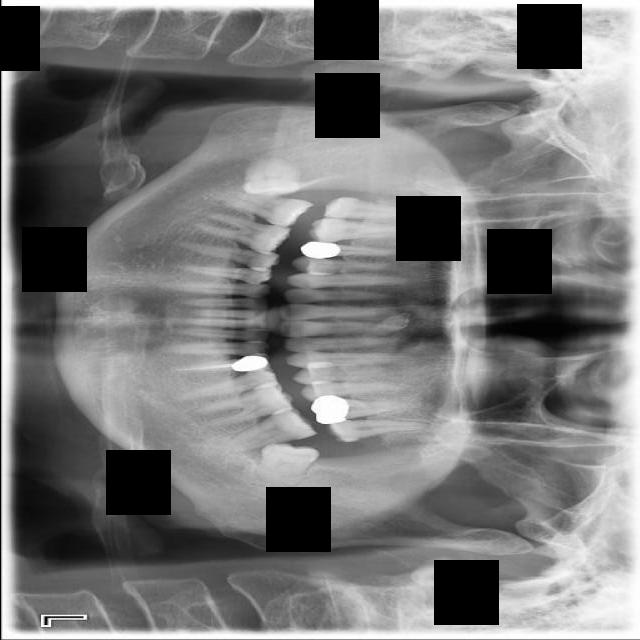52: (309, 393, 349, 426), (234, 352, 270, 374), (301, 241, 340, 260)
73: (172, 358, 239, 379), (52, 594, 62, 599)
BioHorizons Implant: (325, 418, 431, 442)
Biomet 3i Implant: (253, 437, 321, 495)
Blue Sky Bio Implant: (220, 401, 319, 456)
Caries: (321, 195, 428, 225)
Implant: (213, 185, 314, 232)
Keystone Dental Implant: (242, 154, 302, 201)
